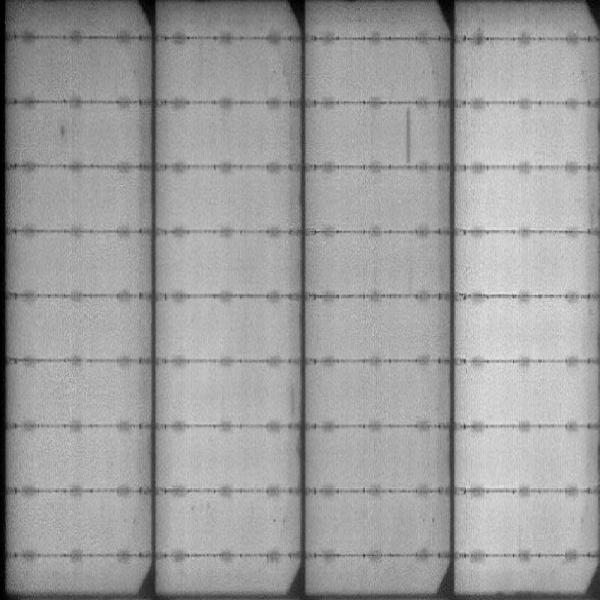hot_spot: (401, 109, 415, 161)
